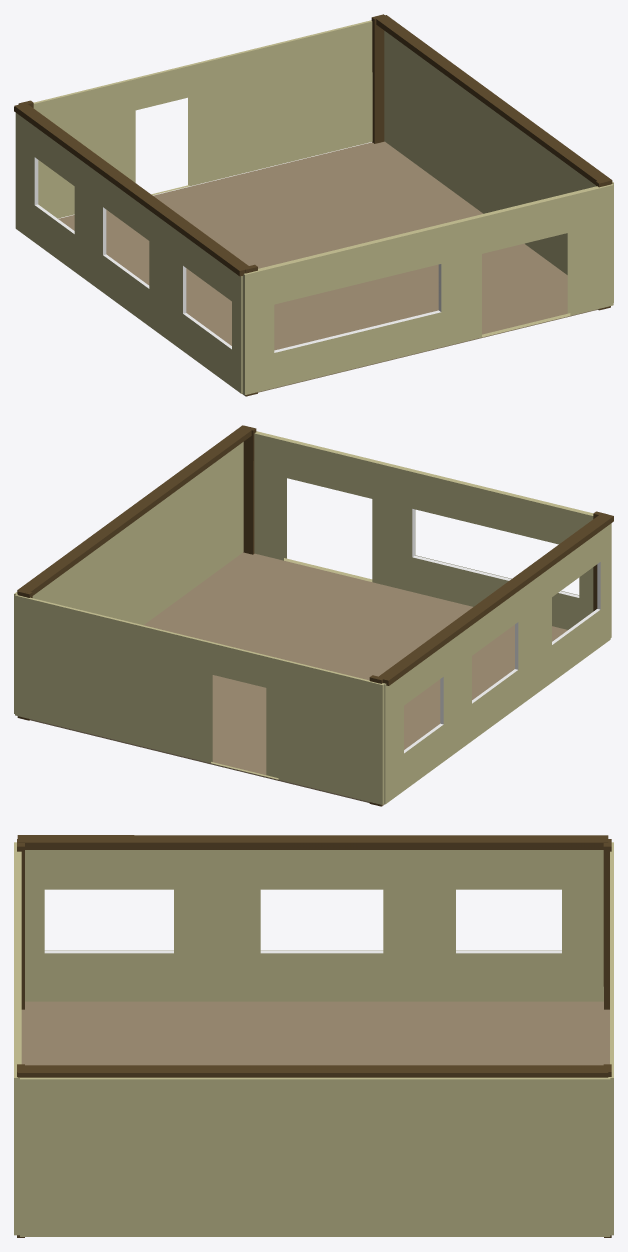
File: temboknframe.glb
3 renders of one model, top to bottom at view 1: azimuth 30°, elevation 25°; view 2: azimuth 150°, elevation 25°; view 3: azimuth 270°, elevation 25°, orthographic. The views are drawn at different scales.
Parts seen in each view (by area): view 1: floor, wall_2.003, wall_2.002, wall_2.001, wall_2, list2, list1, list5; view 2: wall_2.002, floor, wall_2.003, wall_2.001, wall_2, list2, list1, list4; view 3: wall_2, wall_2.001, floor, list2, list1, wall_2.003, wall_2.002, list6, list3.
Part boxes in pixels (left/top/right/bottom): floor: left=58, top=141, right=598, bottom=395; wall_2.003: left=242, top=184, right=613, bottom=395; wall_2.002: left=33, top=20, right=372, bottom=218; wall_2.001: left=15, top=113, right=242, bottom=393; wall_2: left=384, top=31, right=613, bottom=302; list2: left=14, top=103, right=251, bottom=276; list1: left=375, top=15, right=612, bottom=184; list5: left=371, top=14, right=384, bottom=143; wall_2.002: left=15, top=594, right=384, bottom=804; floor: left=30, top=552, right=567, bottom=806; wall_2.003: left=254, top=431, right=611, bottom=637; wall_2.001: left=382, top=524, right=610, bottom=804; wall_2: left=14, top=442, right=243, bottom=713; list2: left=377, top=513, right=613, bottom=685; list1: left=17, top=425, right=254, bottom=595; list4: left=243, top=426, right=256, bottom=554; wall_2: left=20, top=1077, right=610, bottom=1236; wall_2.001: left=25, top=850, right=603, bottom=1001; floor: left=21, top=1001, right=609, bottom=1065; list2: left=17, top=835, right=608, bottom=849; list1: left=17, top=1065, right=608, bottom=1077; wall_2.003: left=14, top=842, right=21, bottom=1235; wall_2.002: left=610, top=842, right=613, bottom=1235; list6: left=603, top=839, right=611, bottom=1009; list3: left=17, top=839, right=24, bottom=1009.
Size of the model in its own units: 8.94 by 2.89 by 9.47.
